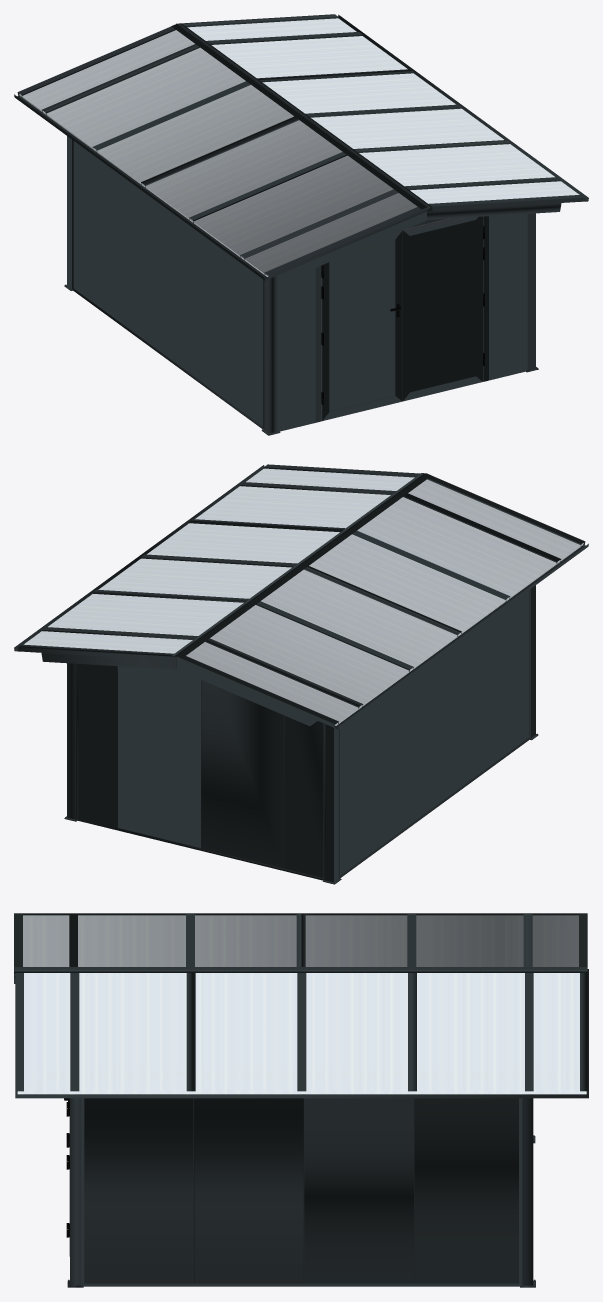
3 views of the same model, one above another, from view 1: azimuth 30°, elevation 25°; view 2: azimuth 150°, elevation 25°; view 3: azimuth 270°, elevation 25° (orthographic). The views are drawn at different scales.
Visible parts, largest first — view 1: priximbattable_net_abris_de_jardin_640004_abri_de_jardin_orc, folha, folha_2, porta_1; view 2: priximbattable_net_abris_de_jardin_640004_abri_de_jardin_orc; view 3: priximbattable_net_abris_de_jardin_640004_abri_de_jardin_orc.
Boxes of the visible parts, x1=… form: priximbattable_net_abris_de_jardin_640004_abri_de_jardin_orc: x1=14, y1=14, x2=588, y2=435; folha: x1=402, y1=216, x2=484, y2=401; folha_2: x1=321, y1=231, x2=402, y2=420; porta_1: x1=315, y1=216, x2=488, y2=422; priximbattable_net_abris_de_jardin_640004_abri_de_jardin_orc: x1=14, y1=464, x2=588, y2=884; priximbattable_net_abris_de_jardin_640004_abri_de_jardin_orc: x1=14, y1=913, x2=588, y2=1287.
Size of the model in its own units: 389 by 243 by 521.
Materials: 1 (1 with a texture image).
